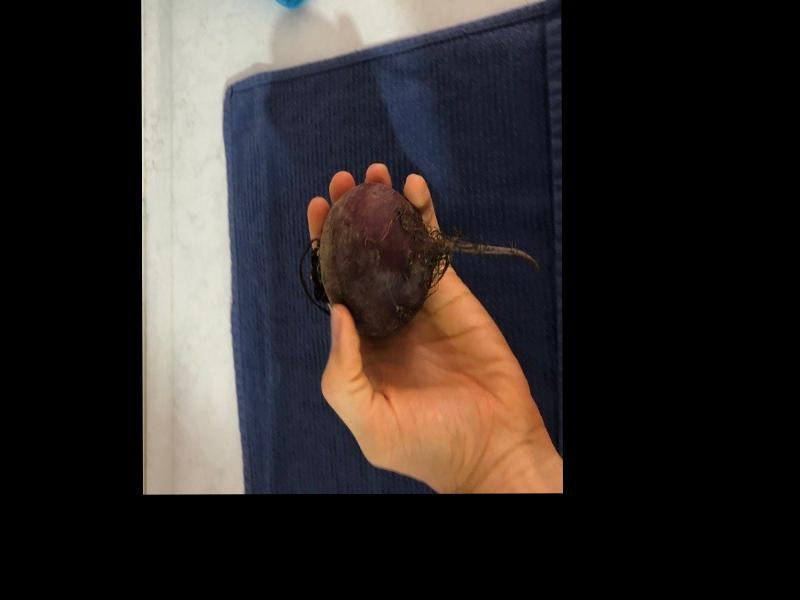Beet: (299, 181, 539, 336)
